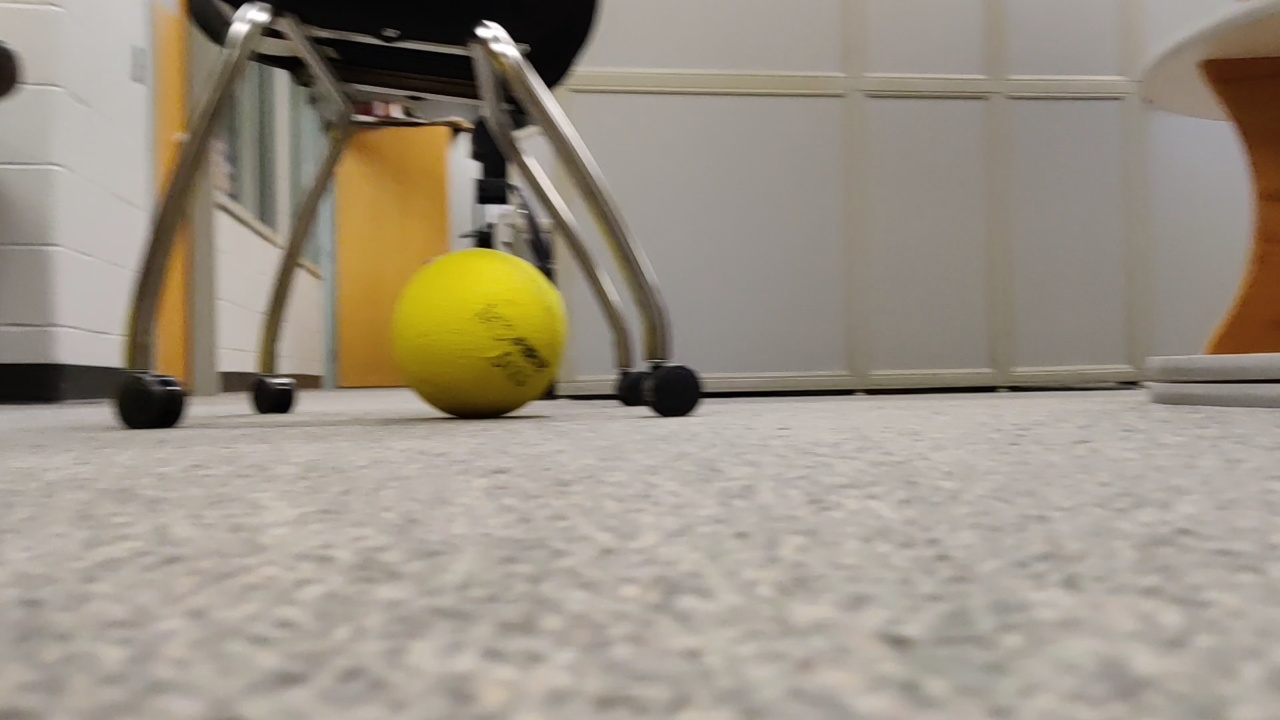Ball: (396, 247, 559, 407)
